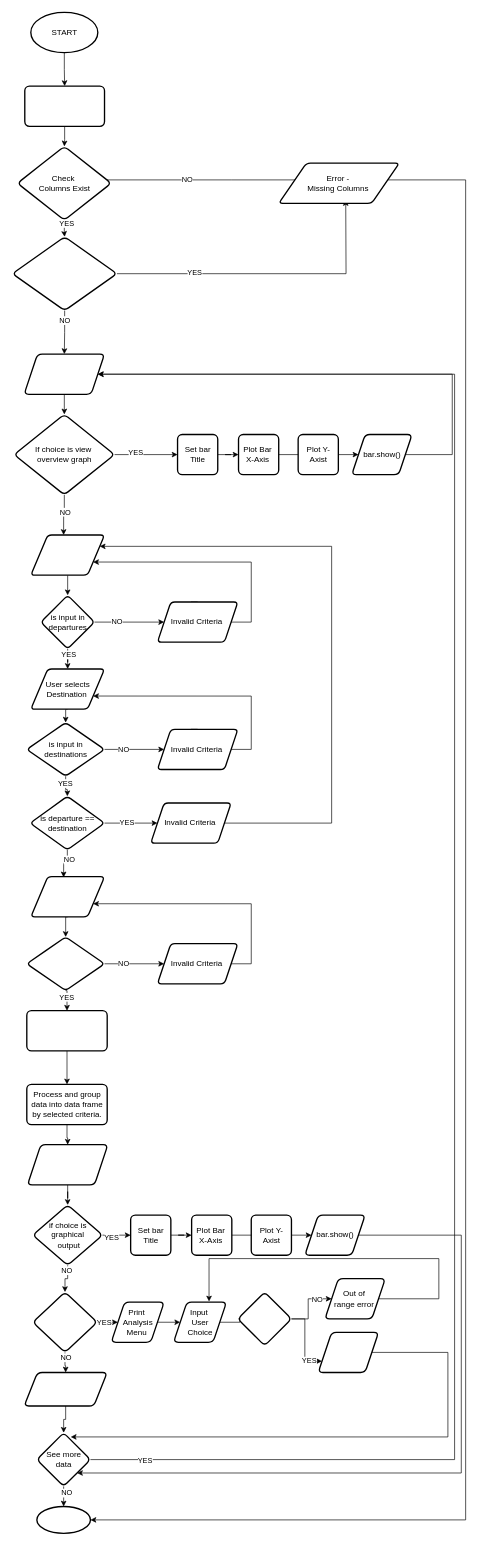
This 482x1545 diagram has some shape labels left out. Here are the shapes that lost their labels. From the top down, the centre of each, then its label:
(64,106): read_csv ("Task3_data.csv")
(64,273): Check for empty values
(64,374): Print Options Menu
(67,555): User selects Departure
(67,896): User selects No. Days to show
(65,963): is input in dataRange
(67,1030): Apply Criteria And Filter Data
(67,1164): Print Option menu for data visualization
(64,1322): if choice is analysis
(264,1318): if choice in range
(348,1352): Analysed data
(65,1388): Print Data frame as table
(63,1519): END
